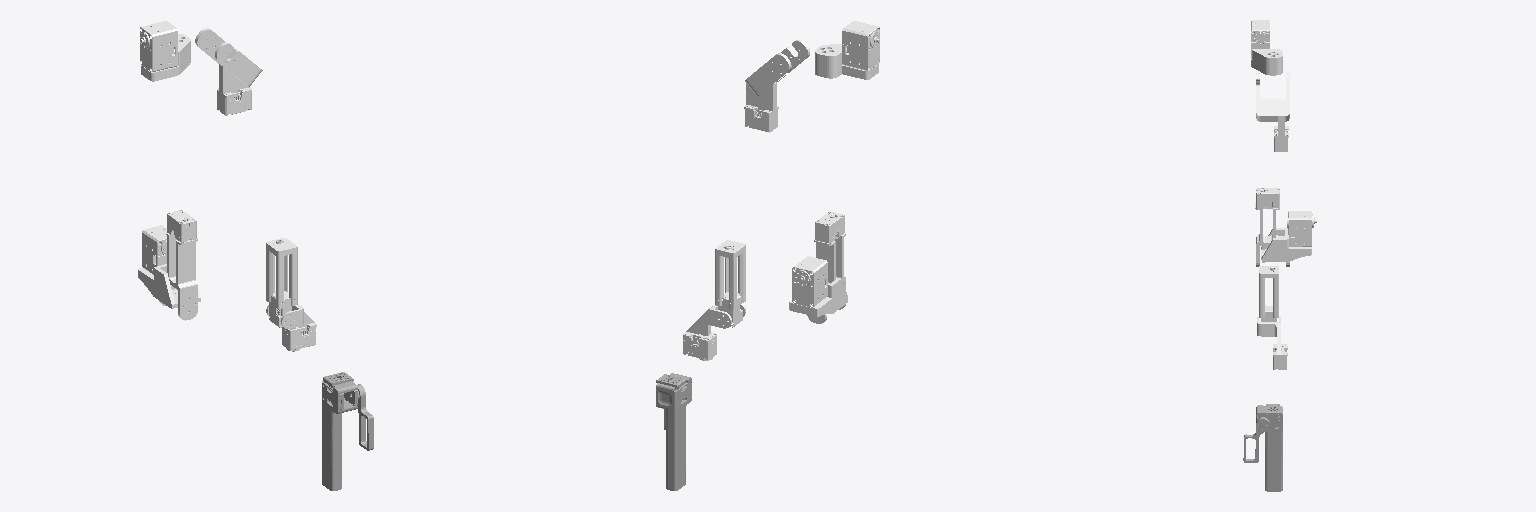
URDF robot description (UF_ROBOT):
<?xml version="1.0" ?>
<!-- =================================================================================== -->
<!-- |    This document was autogenerated by xacro from /home/blakekight/ros2_ws/install/xarm_description/share/xarm_description/urdf/xarm_device.urdf.xacro | -->
<!-- |    EDITING THIS FILE BY HAND IS NOT RECOMMENDED                                 | -->
<!-- =================================================================================== -->
<robot name="UF_ROBOT">
  <!-- Insert at the beginning of xarm_device_macro.xacro -->
  <material name="Black">
    <color rgba="0.0 0.0 0.0 1.0"/>
  </material>
  <material name="Red">
    <color rgba="0.8 0.0 0.0 1.0"/>
  </material>
  <material name="White">
    <color rgba="1.0 1.0 1.0 1.0"/>
  </material>
  <material name="Silver">
    <color rgba="0.753 0.753 0.753 1.0"/>
  </material>
  <link name="world"/>
  <joint name="world_joint" type="fixed">
    <parent link="world"/>
    <child link="link_base"/>
    <origin rpy="0 0 0" xyz="0 0 0"/>
  </joint>
  <ros2_control name="uf_robot_hardware/UFRobotSystemHardware" type="system">
    <hardware>
      <plugin>uf_robot_hardware/UFRobotSystemHardware</plugin>
      <param name="hw_ns">xarm</param>
      <param name="velocity_control">False</param>
      <param name="prefix">P</param>
      <param name="robot_ip">R</param>
      <param name="report_type">normal</param>
      <param name="dof">7</param>
      <param name="baud_checkset">True</param>
      <param name="default_gripper_baud">2000000</param>
      <param name="robot_type">xarm</param>
      <param name="add_gripper">False</param>
      <param name="add_bio_gripper">False</param>
    </hardware>
    <joint name="joint1">
      <command_interface name="position">
        <param name="min">-6.283185307179586</param>
        <param name="max">6.283185307179586</param>
      </command_interface>
      <command_interface name="velocity">
        <param name="min">-3.14</param>
        <param name="max">3.14</param>
      </command_interface>
      <state_interface name="position"/>
      <state_interface name="velocity"/>
      <!-- <state_interface name="effort"/> -->
    </joint>
    <joint name="joint2">
      <command_interface name="position">
        <param name="min">-2.059</param>
        <param name="max">2.0944</param>
      </command_interface>
      <command_interface name="velocity">
        <param name="min">-3.14</param>
        <param name="max">3.14</param>
      </command_interface>
      <state_interface name="position"/>
      <state_interface name="velocity"/>
      <!-- <state_interface name="effort"/> -->
    </joint>
    <joint name="joint3">
      <command_interface name="position">
        <param name="min">-6.283185307179586</param>
        <param name="max">6.283185307179586</param>
      </command_interface>
      <command_interface name="velocity">
        <param name="min">-3.14</param>
        <param name="max">3.14</param>
      </command_interface>
      <state_interface name="position"/>
      <state_interface name="velocity"/>
      <!-- <state_interface name="effort"/> -->
    </joint>
    <joint name="joint4">
      <command_interface name="position">
        <param name="min">-0.19198</param>
        <param name="max">3.927</param>
      </command_interface>
      <command_interface name="velocity">
        <param name="min">-3.14</param>
        <param name="max">3.14</param>
      </command_interface>
      <state_interface name="position"/>
      <state_interface name="velocity"/>
      <!-- <state_interface name="effort"/> -->
    </joint>
    <joint name="joint5">
      <command_interface name="position">
        <param name="min">-6.283185307179586</param>
        <param name="max">6.283185307179586</param>
      </command_interface>
      <command_interface name="velocity">
        <param name="min">-3.14</param>
        <param name="max">3.14</param>
      </command_interface>
      <state_interface name="position"/>
      <state_interface name="velocity"/>
      <!-- <state_interface name="effort"/> -->
    </joint>
    <joint name="joint6">
      <command_interface name="position">
        <param name="min">-1.69297</param>
        <param name="max">3.141592653589793</param>
      </command_interface>
      <command_interface name="velocity">
        <param name="min">-3.14</param>
        <param name="max">3.14</param>
      </command_interface>
      <state_interface name="position"/>
      <state_interface name="velocity"/>
      <!-- <state_interface name="effort"/> -->
    </joint>
    <joint name="joint7">
      <command_interface name="position">
        <param name="min">-6.283185307179586</param>
        <param name="max">6.283185307179586</param>
      </command_interface>
      <command_interface name="velocity">
        <param name="min">-3.14</param>
        <param name="max">3.14</param>
      </command_interface>
      <state_interface name="position"/>
      <state_interface name="velocity"/>
      <!-- <state_interface name="effort"/> -->
    </joint>
  </ros2_control>
  <link name="link_base">
    <inertial>
      <origin rpy="0 0 0" xyz="-0.021131 -0.0016302 0.056488"/>
      <mass value="0.88556"/>
      <inertia ixx="0.0030595" ixy="0.00012259" ixz="-0.00062705" iyy="0.0037783" iyz="0.00027023" izz="0.0020125"/>
    </inertial>
    <visual>
      <geometry>
        <mesh filename="package://xarm_description/meshes/xarm7/visual/link_base.stl"/>
      </geometry>
      <origin rpy="0 0 0" xyz="0 0 0"/>
      <material name="White"/>
    </visual>
    <collision>
      <geometry>
        <mesh filename="package://xarm_description/meshes/xarm7/visual/link_base.stl"/>
      </geometry>
      <origin rpy="0 0 0" xyz="0 0 0"/>
    </collision>
  </link>
  <link name="link1">
    <inertial>
      <origin rpy="0 0 0" xyz="-0.0002 0.02905 -0.01233"/>
      <mass value="2.382"/>
      <inertia ixx="0.0056905" ixy="-1.579e-05" ixz="5.125e-06" iyy="0.0049566" iyz="-0.000873378" izz="0.003316654"/>
    </inertial>
    <visual>
      <geometry>
        <mesh filename="package://xarm_description/meshes/xarm7/visual/link1.stl"/>
      </geometry>
      <origin rpy="0 0 0" xyz="0 0 0"/>
      <material name="White"/>
    </visual>
    <collision>
      <geometry>
        <mesh filename="package://xarm_description/meshes/xarm7/visual/link1.stl"/>
      </geometry>
      <origin rpy="0 0 0" xyz="0 0 0"/>
    </collision>
  </link>
  <joint name="joint1" type="revolute">
    <origin rpy="0 0 0" xyz="0 0 0.267"/>
    <parent link="link_base"/>
    <child link="link1"/>
    <axis xyz="0 0 1"/>
    <limit effort="50" lower="-6.283185307179586" upper="6.283185307179586" velocity="3.14"/>
    <dynamics damping="10" friction="1"/>
  </joint>
  <link name="link2">
    <inertial>
      <origin rpy="0 0 0" xyz="0.00022 -0.12856 0.01735"/>
      <mass value="1.869"/>
      <inertia ixx="0.0095989" ixy="1.541e-06" ixz="5.56e-06" iyy="0.00382472" iyz="-0.00317156" izz="0.007565669"/>
    </inertial>
    <visual>
      <geometry>
        <mesh filename="package://xarm_description/meshes/xarm7/visual/link2.stl"/>
      </geometry>
      <origin rpy="0 0 0" xyz="0 0 0"/>
      <material name="White"/>
    </visual>
    <collision>
      <geometry>
        <mesh filename="package://xarm_description/meshes/xarm7/visual/link2.stl"/>
      </geometry>
      <origin rpy="0 0 0" xyz="0 0 0"/>
    </collision>
  </link>
  <joint name="joint2" type="revolute">
    <origin rpy="-1.5708 0 0" xyz="0 0 0"/>
    <parent link="link1"/>
    <child link="link2"/>
    <axis xyz="0 0 1"/>
    <limit effort="50" lower="-2.059" upper="2.0944" velocity="3.14"/>
    <dynamics damping="10" friction="1"/>
  </joint>
  <link name="link3">
    <inertial>
      <origin rpy="0 0 0" xyz="0.0466 -0.02463 -0.00768"/>
      <mass value="1.6383"/>
      <inertia ixx="0.00310955" ixy="0.00030837" ixz="-0.00058453" iyy="0.00264483" iyz="0.000338893" izz="0.0026624"/>
    </inertial>
    <visual>
      <geometry>
        <mesh filename="package://xarm_description/meshes/xarm7/visual/link3.stl"/>
      </geometry>
      <origin rpy="0 0 0" xyz="0 0 0"/>
      <material name="White"/>
    </visual>
    <collision>
      <geometry>
        <mesh filename="package://xarm_description/meshes/xarm7/visual/link3.stl"/>
      </geometry>
      <origin rpy="0 0 0" xyz="0 0 0"/>
    </collision>
  </link>
  <joint name="joint3" type="revolute">
    <origin rpy="1.5708 0 0" xyz="0 -0.293 0"/>
    <parent link="link2"/>
    <child link="link3"/>
    <axis xyz="0 0 1"/>
    <limit effort="30" lower="-6.283185307179586" upper="6.283185307179586" velocity="3.14"/>
    <dynamics damping="5" friction="1"/>
  </joint>
  <link name="link4">
    <inertial>
      <origin rpy="0 0 0" xyz="0.07047 -0.11575 0.012"/>
      <mass value="1.7269"/>
      <inertia ixx="0.005889" ixy="0.00137112" ixz="0.00088143" iyy="0.00359703" iyz="-0.001762155" izz="0.00543244"/>
    </inertial>
    <visual>
      <geometry>
        <mesh filename="package://xarm_description/meshes/xarm7/visual/link4.stl"/>
      </geometry>
      <origin rpy="0 0 0" xyz="0 0 0"/>
      <material name="White"/>
    </visual>
    <collision>
      <geometry>
        <mesh filename="package://xarm_description/meshes/xarm7/visual/link4.stl"/>
      </geometry>
      <origin rpy="0 0 0" xyz="0 0 0"/>
    </collision>
  </link>
  <joint name="joint4" type="revolute">
    <origin rpy="1.5708 0 0" xyz="0.0525 0 0"/>
    <parent link="link3"/>
    <child link="link4"/>
    <axis xyz="0 0 1"/>
    <limit effort="30" lower="-0.19198" upper="3.927" velocity="3.14"/>
    <dynamics damping="5" friction="1"/>
  </joint>
  <link name="link5">
    <inertial>
      <origin rpy="0 0 0" xyz="-0.00032 0.01604 -0.026"/>
      <mass value="1.3203"/>
      <inertia ixx="0.00534665" ixy="1.5117e-05" ixz="-3.69e-07" iyy="0.0049779" iyz="-0.00022132" izz="0.0013624"/>
    </inertial>
    <visual>
      <geometry>
        <mesh filename="package://xarm_description/meshes/xarm7/visual/link5.stl"/>
      </geometry>
      <origin rpy="0 0 0" xyz="0 0 0"/>
      <material name="White"/>
    </visual>
    <collision>
      <geometry>
        <mesh filename="package://xarm_description/meshes/xarm7/visual/link5.stl"/>
      </geometry>
      <origin rpy="0 0 0" xyz="0 0 0"/>
    </collision>
  </link>
  <joint name="joint5" type="revolute">
    <origin rpy="1.5708 0 0" xyz="0.0775 -0.3425 0"/>
    <parent link="link4"/>
    <child link="link5"/>
    <axis xyz="0 0 1"/>
    <limit effort="30" lower="-6.283185307179586" upper="6.283185307179586" velocity="3.14"/>
    <dynamics damping="5" friction="1"/>
  </joint>
  <link name="link6">
    <inertial>
      <origin rpy="0 0 0" xyz="0.06469 0.03278 0.02141"/>
      <mass value="1.325"/>
      <inertia ixx="0.0014745" ixy="-0.000488" ixz="0.0002953" iyy="0.0019037" iyz="0.00014749" izz="0.0023652"/>
    </inertial>
    <visual>
      <geometry>
        <mesh filename="package://xarm_description/meshes/xarm7/visual/link6.stl"/>
      </geometry>
      <origin rpy="0 0 0" xyz="0 0 0"/>
      <material name="White"/>
    </visual>
    <collision>
      <geometry>
        <mesh filename="package://xarm_description/meshes/xarm7/visual/link6.stl"/>
      </geometry>
      <origin rpy="0 0 0" xyz="0 0 0"/>
    </collision>
  </link>
  <joint name="joint6" type="revolute">
    <origin rpy="1.5708 0 0" xyz="0 0 0"/>
    <parent link="link5"/>
    <child link="link6"/>
    <axis xyz="0 0 1"/>
    <limit effort="20" lower="-1.69297" upper="3.141592653589793" velocity="3.14"/>
    <dynamics damping="2" friction="1"/>
  </joint>
  <link name="link7">
    <inertial>
      <origin rpy="0 0 0" xyz="0 -0.00677 -0.01098"/>
      <mass value="0.17"/>
      <inertia ixx="9.3e-05" ixy="-0.0" ixz="-0.0" iyy="5.87e-05" iyz="-3.6e-06" izz="0.000132"/>
    </inertial>
    <visual>
      <geometry>
        <mesh filename="package://xarm_description/meshes/xarm7/visual/link7.stl"/>
      </geometry>
      <origin rpy="0 0 0" xyz="0 0 0"/>
      <material name="Silver"/>
    </visual>
    <collision>
      <geometry>
        <mesh filename="package://xarm_description/meshes/end_tool/collision/end_tool.stl"/>
      </geometry>
      <origin rpy="0 0 0" xyz="0 0 0"/>
    </collision>
  </link>
  <joint name="joint7" type="revolute">
    <origin rpy="-1.5708 0 0" xyz="0.076 0.097 0"/>
    <parent link="link6"/>
    <child link="link7"/>
    <axis xyz="0 0 1"/>
    <limit effort="20" lower="-6.283185307179586" upper="6.283185307179586" velocity="3.14"/>
    <dynamics damping="2" friction="1"/>
  </joint>
  <!-- <link name="${prefix}link_eef" />
    <joint name="${prefix}joint_eef" type="fixed">
      <origin xyz="0 0 0" rpy="0 0 0" />
      <parent link="${prefix}link7" />
      <child link="${prefix}link_eef" />
    </joint> -->
  <transmission name="tran1">
    <type>transmission_interface/SimpleTransmission</type>
    <joint name="joint1">
      <hardwareInterface>hardware_interface/PositionJointInterface</hardwareInterface>
    </joint>
    <actuator name="motor1">
      <hardwareInterface>hardware_interface/PositionJointInterface</hardwareInterface>
      <mechanicalReduction>100</mechanicalReduction>
    </actuator>
  </transmission>
  <transmission name="tran2">
    <type>transmission_interface/SimpleTransmission</type>
    <joint name="joint2">
      <hardwareInterface>hardware_interface/PositionJointInterface</hardwareInterface>
    </joint>
    <actuator name="motor2">
      <hardwareInterface>hardware_interface/PositionJointInterface</hardwareInterface>
      <mechanicalReduction>100</mechanicalReduction>
    </actuator>
  </transmission>
  <transmission name="tran3">
    <type>transmission_interface/SimpleTransmission</type>
    <joint name="joint3">
      <hardwareInterface>hardware_interface/PositionJointInterface</hardwareInterface>
    </joint>
    <actuator name="motor3">
      <hardwareInterface>hardware_interface/PositionJointInterface</hardwareInterface>
      <mechanicalReduction>100</mechanicalReduction>
    </actuator>
  </transmission>
  <transmission name="tran4">
    <type>transmission_interface/SimpleTransmission</type>
    <joint name="joint4">
      <hardwareInterface>hardware_interface/PositionJointInterface</hardwareInterface>
    </joint>
    <actuator name="motor4">
      <hardwareInterface>hardware_interface/PositionJointInterface</hardwareInterface>
      <mechanicalReduction>100</mechanicalReduction>
    </actuator>
  </transmission>
  <transmission name="tran5">
    <type>transmission_interface/SimpleTransmission</type>
    <joint name="joint5">
      <hardwareInterface>hardware_interface/PositionJointInterface</hardwareInterface>
    </joint>
    <actuator name="motor5">
      <hardwareInterface>hardware_interface/PositionJointInterface</hardwareInterface>
      <mechanicalReduction>100</mechanicalReduction>
    </actuator>
  </transmission>
  <transmission name="tran6">
    <type>transmission_interface/SimpleTransmission</type>
    <joint name="joint6">
      <hardwareInterface>hardware_interface/PositionJointInterface</hardwareInterface>
    </joint>
    <actuator name="motor6">
      <hardwareInterface>hardware_interface/PositionJointInterface</hardwareInterface>
      <mechanicalReduction>100</mechanicalReduction>
    </actuator>
  </transmission>
  <transmission name="tran7">
    <type>transmission_interface/SimpleTransmission</type>
    <joint name="joint7">
      <hardwareInterface>hardware_interface/PositionJointInterface</hardwareInterface>
    </joint>
    <actuator name="motor7">
      <hardwareInterface>hardware_interface/PositionJointInterface</hardwareInterface>
      <mechanicalReduction>100</mechanicalReduction>
    </actuator>
  </transmission>
  <gazebo reference="link_base">
    <selfCollide>true</selfCollide>
  </gazebo>
  <gazebo reference="link1">
    <selfCollide>true</selfCollide>
  </gazebo>
  <gazebo reference="link2">
    <selfCollide>true</selfCollide>
  </gazebo>
  <gazebo reference="link3">
    <selfCollide>true</selfCollide>
  </gazebo>
  <gazebo reference="link4">
    <selfCollide>true</selfCollide>
  </gazebo>
  <gazebo reference="link5">
    <selfCollide>true</selfCollide>
  </gazebo>
  <gazebo reference="link6">
    <selfCollide>true</selfCollide>
  </gazebo>
  <gazebo reference="link7">
    <selfCollide>true</selfCollide>
  </gazebo>
  <link name="link_eef"/>
  <joint name="joint_eef" type="fixed">
    <origin rpy="0 0 0" xyz="0 0 0"/>
    <parent link="link7"/>
    <child link="link_eef"/>
  </joint>
  <!-- Insert at the end of xarm_device_macro.xacro -->
</robot>

--- Render facts (derived) ---
Views: 3 orthographic renders of the robot side by side, from view 1: azimuth 30°, elevation 25°; view 2: azimuth 150°, elevation 25°; view 3: azimuth 270°, elevation 25°.
Model UF_ROBOT with 10 links and 9 joints (7 revolute, 2 fixed), rooted at world, posed all joints at 0.
Links seen in each view (by area): view 1: link7, link4, link2, link3, link5, link1, link6; view 2: link3, link7, link4, link1, link5, link2, link6; view 3: link7, link1, link4, link3, link2, link5, link6.
Boxes of the visible links, bbox=[...] form: link7: bbox=[322, 372, 373, 490]; link4: bbox=[195, 28, 262, 115]; link2: bbox=[159, 210, 197, 320]; link3: bbox=[140, 21, 190, 81]; link5: bbox=[266, 238, 297, 327]; link1: bbox=[138, 225, 200, 308]; link6: bbox=[266, 304, 316, 351]; link3: bbox=[815, 21, 879, 79]; link7: bbox=[656, 373, 691, 490]; link4: bbox=[744, 40, 809, 132]; link1: bbox=[789, 256, 847, 316]; link5: bbox=[715, 240, 745, 327]; link2: bbox=[807, 211, 845, 323]; link6: bbox=[683, 303, 745, 360]; link7: bbox=[1243, 404, 1282, 491]; link1: bbox=[1261, 211, 1316, 262]; link4: bbox=[1256, 73, 1289, 151]; link3: bbox=[1251, 20, 1282, 75]; link2: bbox=[1255, 188, 1289, 266]; link5: bbox=[1259, 266, 1278, 321]; link6: bbox=[1257, 317, 1287, 369].
Bounding box of the posed robot: 0.286 × 0.105 × 0.627 m (x, y, z).
7 mesh visuals loaded from 8 distinct referenced files (7 binary STL); not drawn: 1 (reference not matched to a file when rendering).
